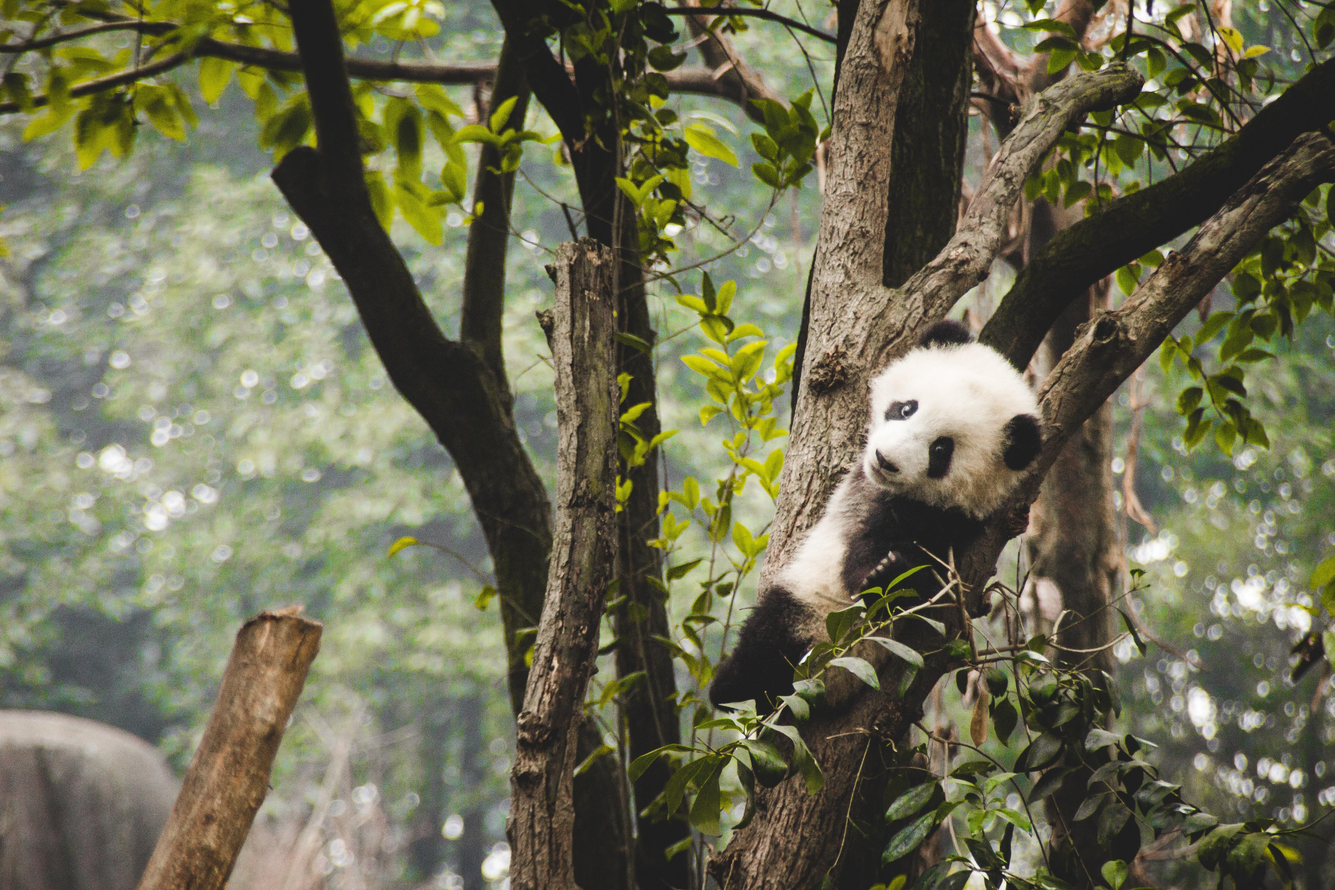panda: (697, 299, 1056, 736)
